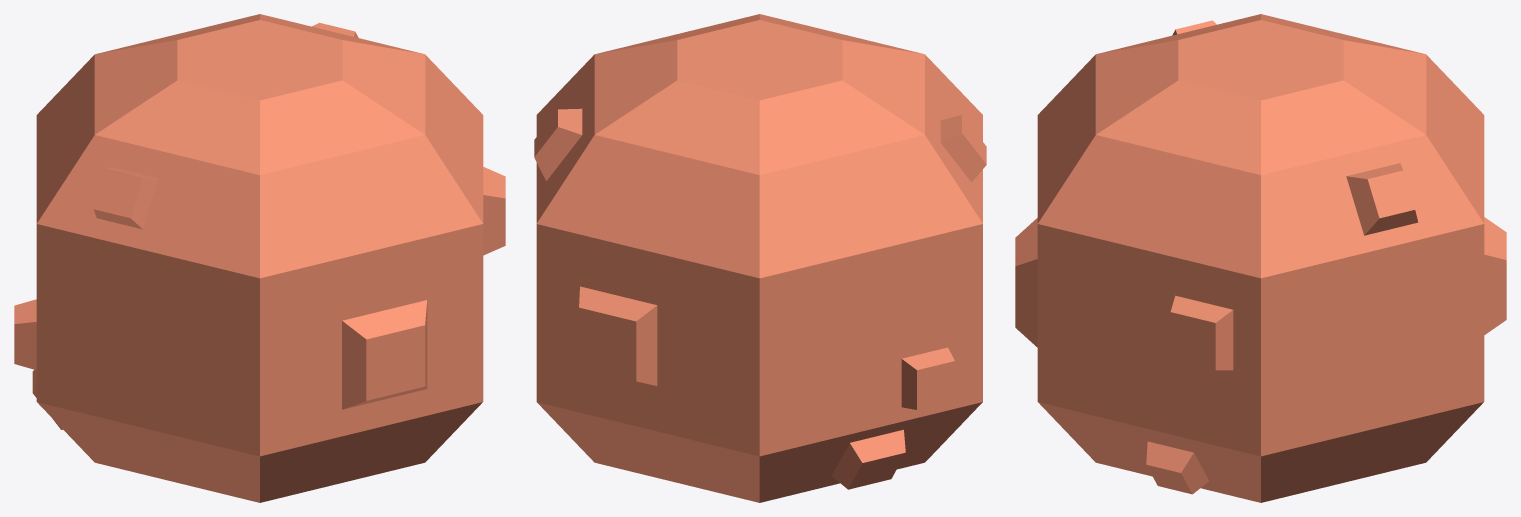
The model's file is k-meteor-detailed.glb.
3 renders of one model, left to right at view 1: azimuth 30°, elevation 25°; view 2: azimuth 150°, elevation 25°; view 3: azimuth 270°, elevation 25°, orthographic.
Parts seen in each view (by area): view 1: meteor_detailed; view 2: meteor_detailed; view 3: meteor_detailed.
Boxes of the visible parts, x1,y1,x2,y2 form: meteor_detailed: (14, 14, 505, 502); meteor_detailed: (534, 14, 986, 502); meteor_detailed: (1015, 14, 1506, 502).
Bounding box in the file's own units: 0.866 × 0.735 × 0.825.
